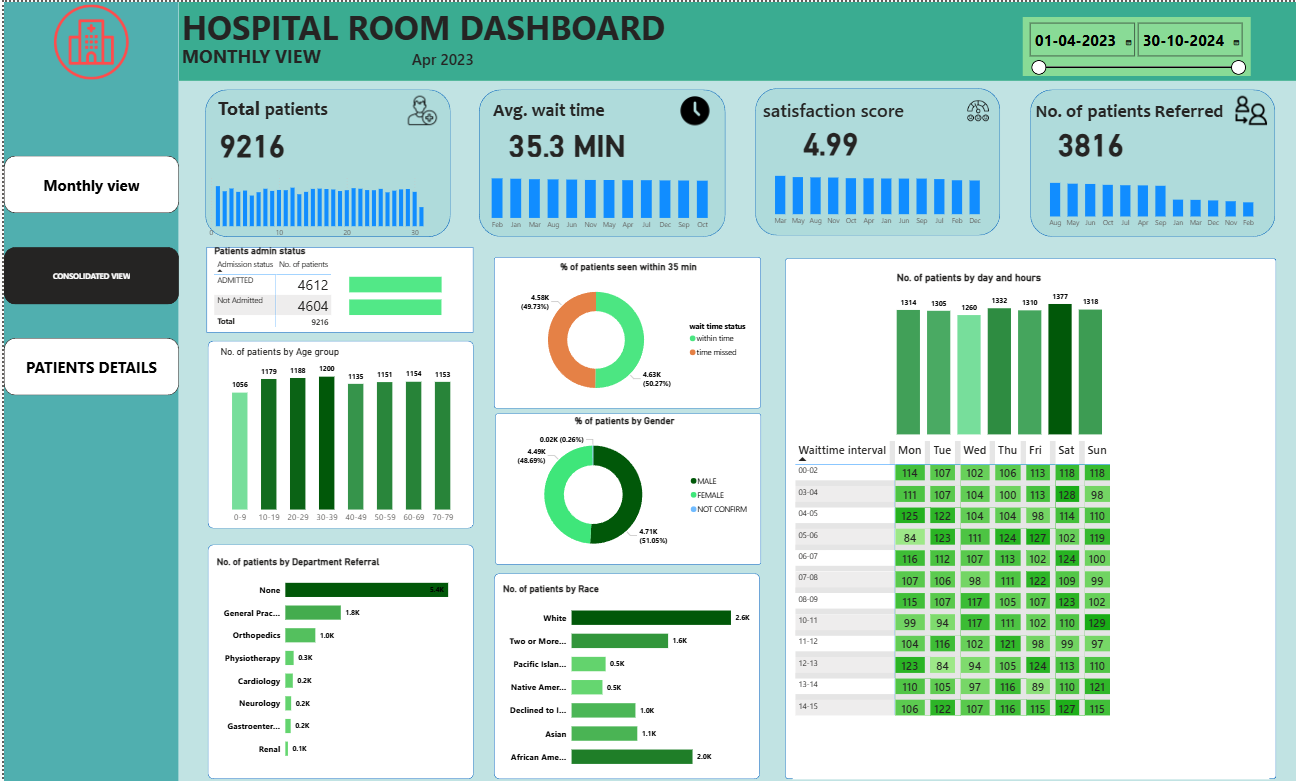

What the dashboard file says about the page in this screenshot:
{"tool":"powerbi","page":{"name":"Monthly view","canvas":[2300,1400],"ordinal":0},"visuals":[{"type":"shape","box":[1825.1,155.4,435.5,261.8],"z":0,"group":"g4"},{"type":"shape","box":[361,435.6,474.6,152.5],"z":0},{"type":"shape","box":[0,0,310,1400.5],"z":1000},{"type":"shape","box":[1335.1,153,435.5,261.8],"z":1000,"group":"g3"},{"type":"shape","box":[310.5,0,1990.1,140],"z":2000},{"type":"shape","box":[845.1,155.5,438.1,261.8],"z":2000,"group":"g2"},{"type":"textbox","box":[310.5,0,884.5,89.3],"z":3000},{"type":"shape","box":[357.8,155.5,436.2,262.1],"z":3000,"group":"g1"},{"type":"textbox","box":[311.1,70,267,70],"z":4000},{"type":"slicer","fields":{"Values":["DATE Table.YEAR"]},"box":[1824.8,20.1,210,84.9],"z":5000},{"type":"slicer","fields":{"Values":["DATE Table.MONTH NAME"]},"box":[2043.7,20.1,239,84.9],"z":6000},{"type":"card","fields":{"Values":["Min(DATE Table.MONTH & YEAR)"]},"box":[712.1,81,137.9,46.6],"z":7000},{"type":"card","fields":{"Values":["Hospital ER_Data.No. of patients"]},"box":[369.8,214.1,144.8,72.4],"z":8000,"group":"g1"},{"type":"pivotTable","title":"Patients admin status","fields":{"Rows":["Hospital ER_Data.Admission status"],"Values":["Hospital ER_Data.No. of patients"]},"box":[369.5,432.2,262.7,152.5],"z":8000},{"type":"group","id":"g1","title":"Group 1","box":[350,155.5,450,262.1],"z":9000},{"type":"card","fields":{"Values":["Hospital ER_Data.Avg. wait time"]},"box":[892.1,217.6,220,62.9],"z":9000,"group":"g2"},{"type":"group","id":"g2","title":"Group 2","box":[838.1,155.5,450.8,261.8],"z":10000},{"type":"group","id":"g3","title":"Group 3","box":[1335.1,153,450,261.8],"z":11000},{"type":"group","id":"g4","title":"Group 4","box":[1825.1,155.4,450,261.8],"z":12000},{"type":"areaChart","fields":{"Category":["DATE Table.Date.Variation.Date Hierarchy.Day"],"Y":["Hospital ER_Data.No. of patients"]},"box":[350,300.7,450,88.1],"z":12000,"group":"g1"},{"type":"textbox","box":[1830,164.9,367.8,55.9],"z":13000,"group":"g4"},{"type":"barChart","fields":{"Category":["Hospital ER_Data.Admission status"],"Y":["Hospital ER_Data.No. of patients"]},"box":[608.5,455.9,223.7,128.8],"z":13000},{"type":"textbox","box":[1345.1,163.2,264.4,54.2],"z":14000,"group":"g3"},{"type":"shape","box":[362.7,601.7,472.9,333.9],"z":14000},{"type":"clusteredColumnChart","fields":{"Category":["Hospital ER_Data.Age group"],"Y":["Hospital ER_Data.No. of patients"]},"box":[379.7,611.9,440.7,325.4],"z":15000},{"type":"areaChart","fields":{"Category":["DATE Table.Date.Variation.Date Hierarchy.Day"],"Y":["Avg(Hospital ER_Data.Patient Satisfaction Score)"]},"box":[1335.1,303.4,450,88.1],"z":16000,"group":"g3"},{"type":"shape","box":[362.7,964.4,472.9,416.9],"z":16000},{"type":"areaChart","fields":{"Category":["DATE Table.Date.Variation.Date Hierarchy.Day"],"Y":["CountNonNull(Hospital ER_Data.Department Referral)"]},"box":[1825.1,305.8,450,85.6],"z":17000,"group":"g4"},{"type":"clusteredBarChart","fields":{"Category":["Hospital ER_Data.Department Referral"],"Y":["Measures Table.No. of patients"]},"box":[372.9,984.7,454.2,378],"z":17000},{"type":"shape","box":[871.2,452.5,474.6,269.5],"z":18000},{"type":"textbox","box":[375.5,161.4,245.8,54.2],"z":19000,"group":"g1"},{"type":"donutChart","title":"% of patients seen within 35 min","fields":{"Category":["Hospital ER_Data.wait time status"],"Y":["Measures Table.No. of patients"]},"box":[883.1,459.3,455.9,262.7],"z":19000},{"type":"textbox","box":[865,166.4,247.5,50.8],"z":20000,"group":"g2"},{"type":"shape","box":[872.9,732.2,472.9,269.5],"z":20000},{"type":"areaChart","fields":{"Category":["DATE Table.Date.Variation.Date Hierarchy.Day"],"Y":["Avg(Hospital ER_Data.Patient Waittime)"]},"box":[838.1,305.4,450.8,83.1],"z":21000,"group":"g2"},{"type":"donutChart","title":"% of patients by Gender","fields":{"Y":["Measures Table.No. of patients"],"Category":["Hospital ER_Data.Patient Gender"]},"box":[871.2,733.9,464.4,266.1],"z":21000},{"type":"card","fields":{"Values":["Hospital ER_Data.patients satisfaction score"]},"box":[1386.9,207.4,165.9,80.4],"z":22000,"group":"g3"},{"type":"shape","box":[871.2,1015.3,472.9,366.1],"z":22000},{"type":"card","fields":{"Values":["Hospital ER_Data.No. of patients reffered"]},"box":[1864,199.5,140,95.9],"z":23000,"group":"g4"},{"type":"clusteredBarChart","title":"No. of patients by Race","fields":{"Y":["Measures Table.No. of patients"],"Category":["Hospital ER_Data.Patient Race"]},"box":[881.4,1033.9,455.9,344.1],"z":23000},{"type":"shape","box":[1388.1,455.9,872.9,925.4],"z":24000},{"type":"pivotTable","fields":{"Rows":["Hospital ER_Data.Waittime interval"],"Columns":["DATE Table.day name"],"Values":["Measures Table.No. of patients"]},"box":[1401.7,774.6,847.5,606.8],"z":25000},{"type":"columnChart","title":"No. of patients by day and hours","fields":{"Category":["DATE Table.day name"],"Y":["Measures Table.No. of patients"]},"box":[1583.1,479.7,376.3,294.9],"z":26000},{"type":"image","box":[711.9,159.3,66.1,66.1],"z":27000},{"type":"image","box":[1194.9,152.5,66.1,79.7],"z":28000},{"type":"image","box":[1706.8,159.3,50.8,66.1],"z":29000},{"type":"image","box":[2162.7,161,110.2,66.1],"z":30000},{"type":"image","box":[0,0,310.2,142.4],"z":31000},{"type":"pageNavigator","box":[0,273.7,311.3,426.6],"z":32000}]}

Visuals, with their boxes in screenshot pixels (x1, y1, x2, y2), scaled from the page's 2300x1400 canvas onto the 1296x781 screenshot:
shape: 1028:87:1274:233
shape: 203:243:471:328
shape: 0:0:175:780
shape: 752:85:998:231
shape: 175:0:1295:78
shape: 476:87:723:233
textbox: 175:0:673:50
shape: 202:87:447:233
textbox: 175:39:326:78
slicer - DATE Table.YEAR: 1028:11:1147:59
slicer - DATE Table.MONTH NAME: 1152:11:1286:59
card - Min(DATE Table.MONTH & YEAR): 401:45:479:71
card - Hospital ER_Data.No. of patients: 208:119:290:160
"Patients admin status" pivotTable: 208:241:356:326
"Group 1" group: 197:87:451:233
card - Hospital ER_Data.Avg. wait time: 503:121:627:156
"Group 2" group: 472:87:726:233
"Group 3" group: 752:85:1006:231
"Group 4" group: 1028:87:1282:233
areaChart - DATE Table.Date.Variation.Date Hierarchy.Day x Hospital ER_Data.No. of patients: 197:168:451:217
textbox: 1031:92:1238:123
barChart - Hospital ER_Data.Admission status x Hospital ER_Data.No. of patients: 343:254:469:326
textbox: 758:91:907:121
shape: 204:336:471:522
clusteredColumnChart - Hospital ER_Data.Age group x Hospital ER_Data.No. of patients: 214:341:462:523
areaChart - DATE Table.Date.Variation.Date Hierarchy.Day x Avg(Hospital ER_Data.Patient Satisfaction Score): 752:169:1006:218
shape: 204:538:471:771
areaChart - DATE Table.Date.Variation.Date Hierarchy.Day x CountNonNull(Hospital ER_Data.Department Referral): 1028:171:1282:218
clusteredBarChart - Hospital ER_Data.Department Referral x Measures Table.No. of patients: 210:549:466:760
shape: 491:252:758:403
textbox: 212:90:350:120
"% of patients seen within 35 min" donutChart: 498:256:754:403
textbox: 487:93:627:121
shape: 492:408:758:559
areaChart - DATE Table.Date.Variation.Date Hierarchy.Day x Avg(Hospital ER_Data.Patient Waittime): 472:170:726:217
"% of patients by Gender" donutChart: 491:409:753:558
card - Hospital ER_Data.patients satisfaction score: 781:116:875:161
shape: 491:566:757:771
card - Hospital ER_Data.No. of patients reffered: 1050:111:1129:165
"No. of patients by Race" clusteredBarChart: 497:577:754:769
shape: 782:254:1274:771
pivotTable - Hospital ER_Data.Waittime interval x DATE Table.day name: 790:432:1267:771
"No. of patients by day and hours" columnChart: 892:268:1104:432
image: 401:89:438:126
image: 673:85:711:130
image: 962:89:990:126
image: 1219:90:1281:127
image: 0:0:175:79
pageNavigator: 0:153:175:391
